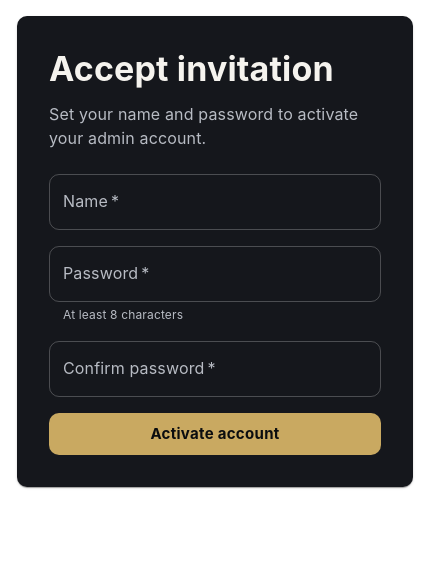
Test case: AcceptInvitePage › shows an error message when the invitation is invalid
Type "Future Admin" into the field labelled "Name *". click: x=215, y=202
box: [49, 174, 381, 230]
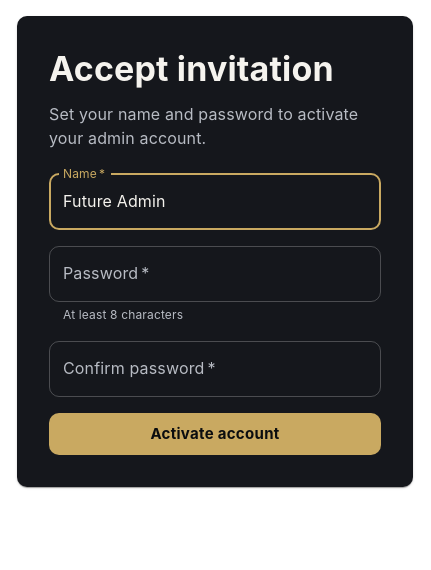
Type "password123" into the password field labelled "Password *". click: x=215, y=274
box: [49, 246, 381, 302]
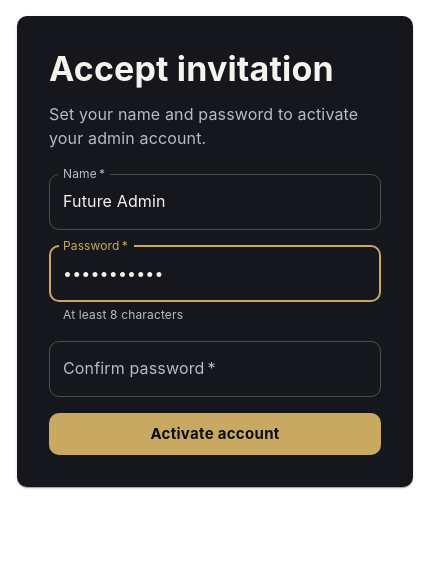
Type "password123" into the password field labelled "Confirm password *". click: x=215, y=369
box: [49, 341, 381, 397]
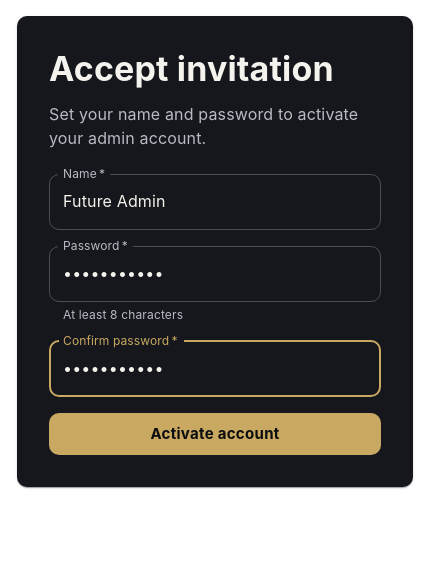
Click the button "Activate account". click: x=215, y=434
box: [49, 413, 381, 455]
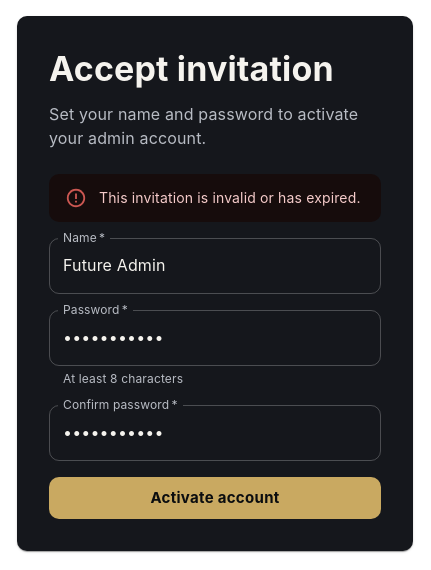
Check: the message shows "invalid or has expired", box [99, 189, 361, 206]
